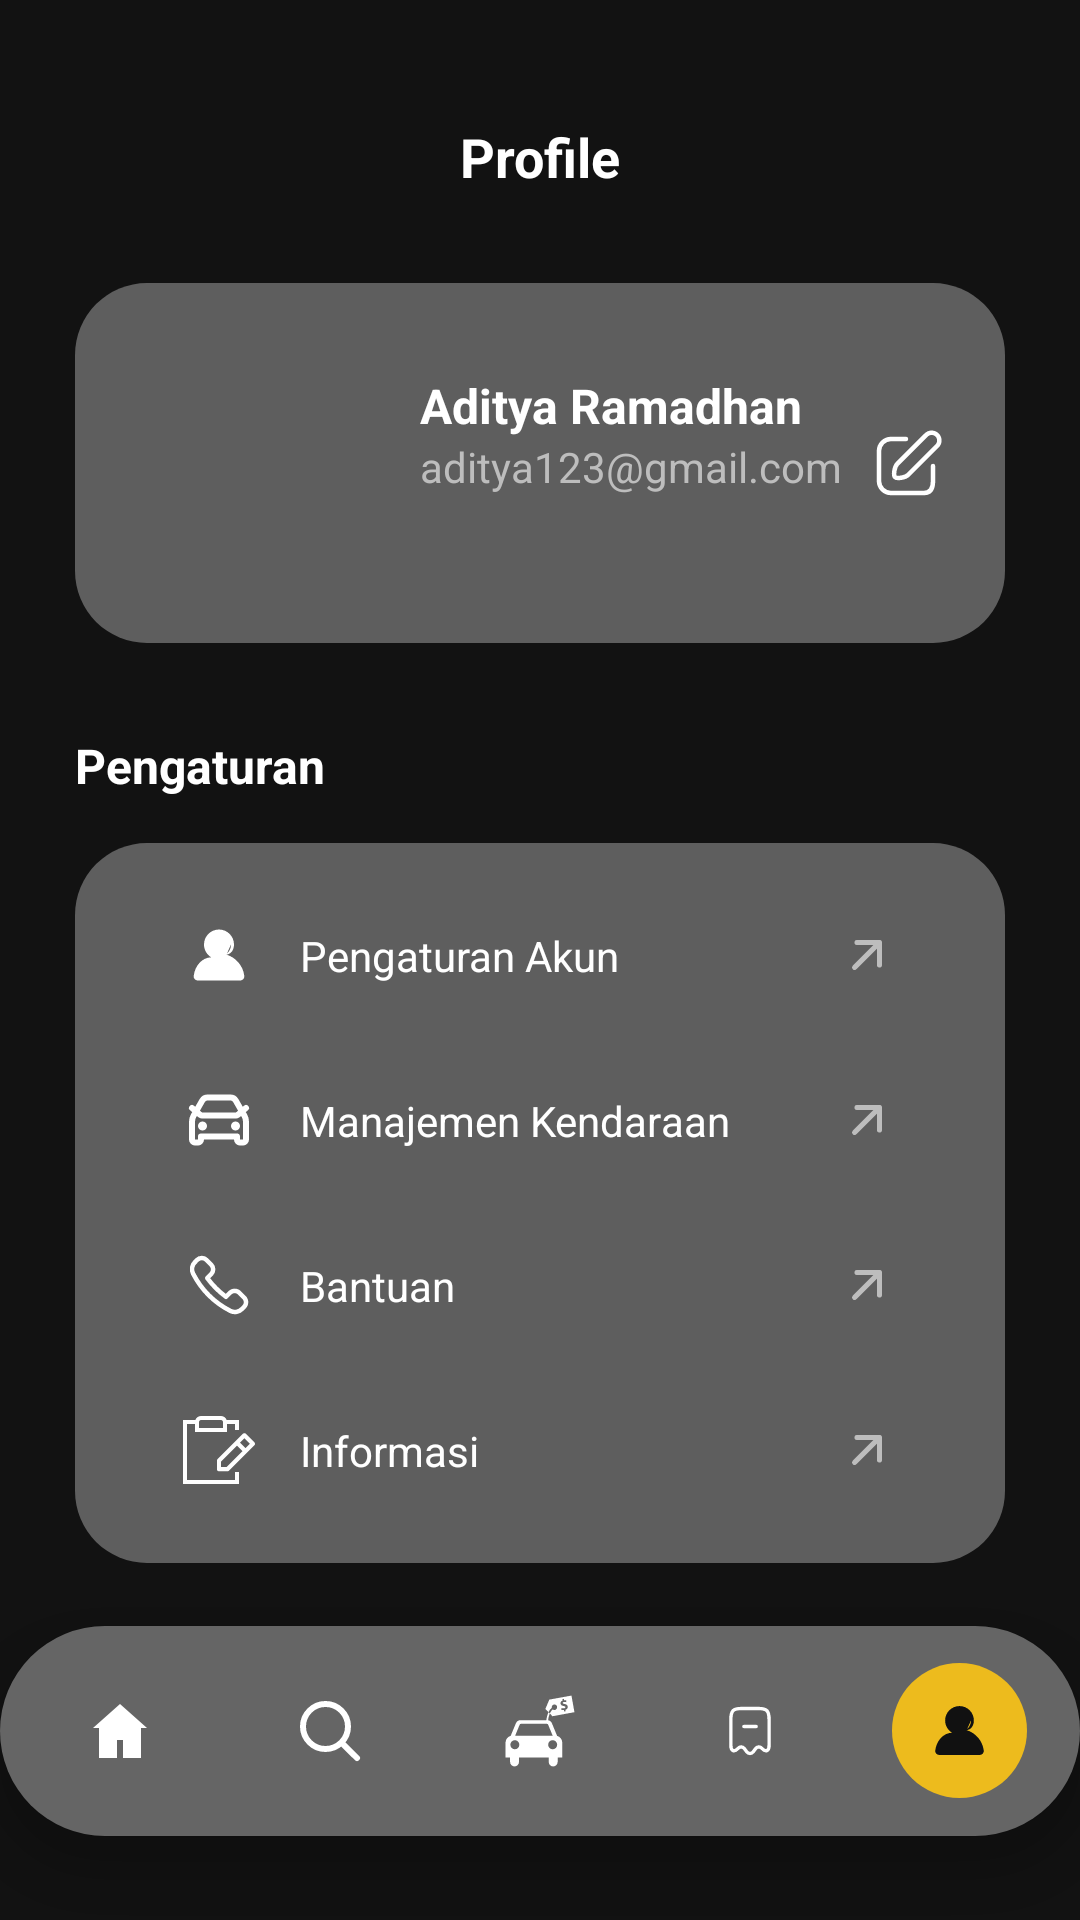

Screen size 1080 × 1920. Icon name, then its center in pixels as (x,y):
car: (219,1120)
edit: (909,463)
help: (219,1285)
profile: (219,955), (959,1730)
search: (330,1731)
sell: (540,1731)
